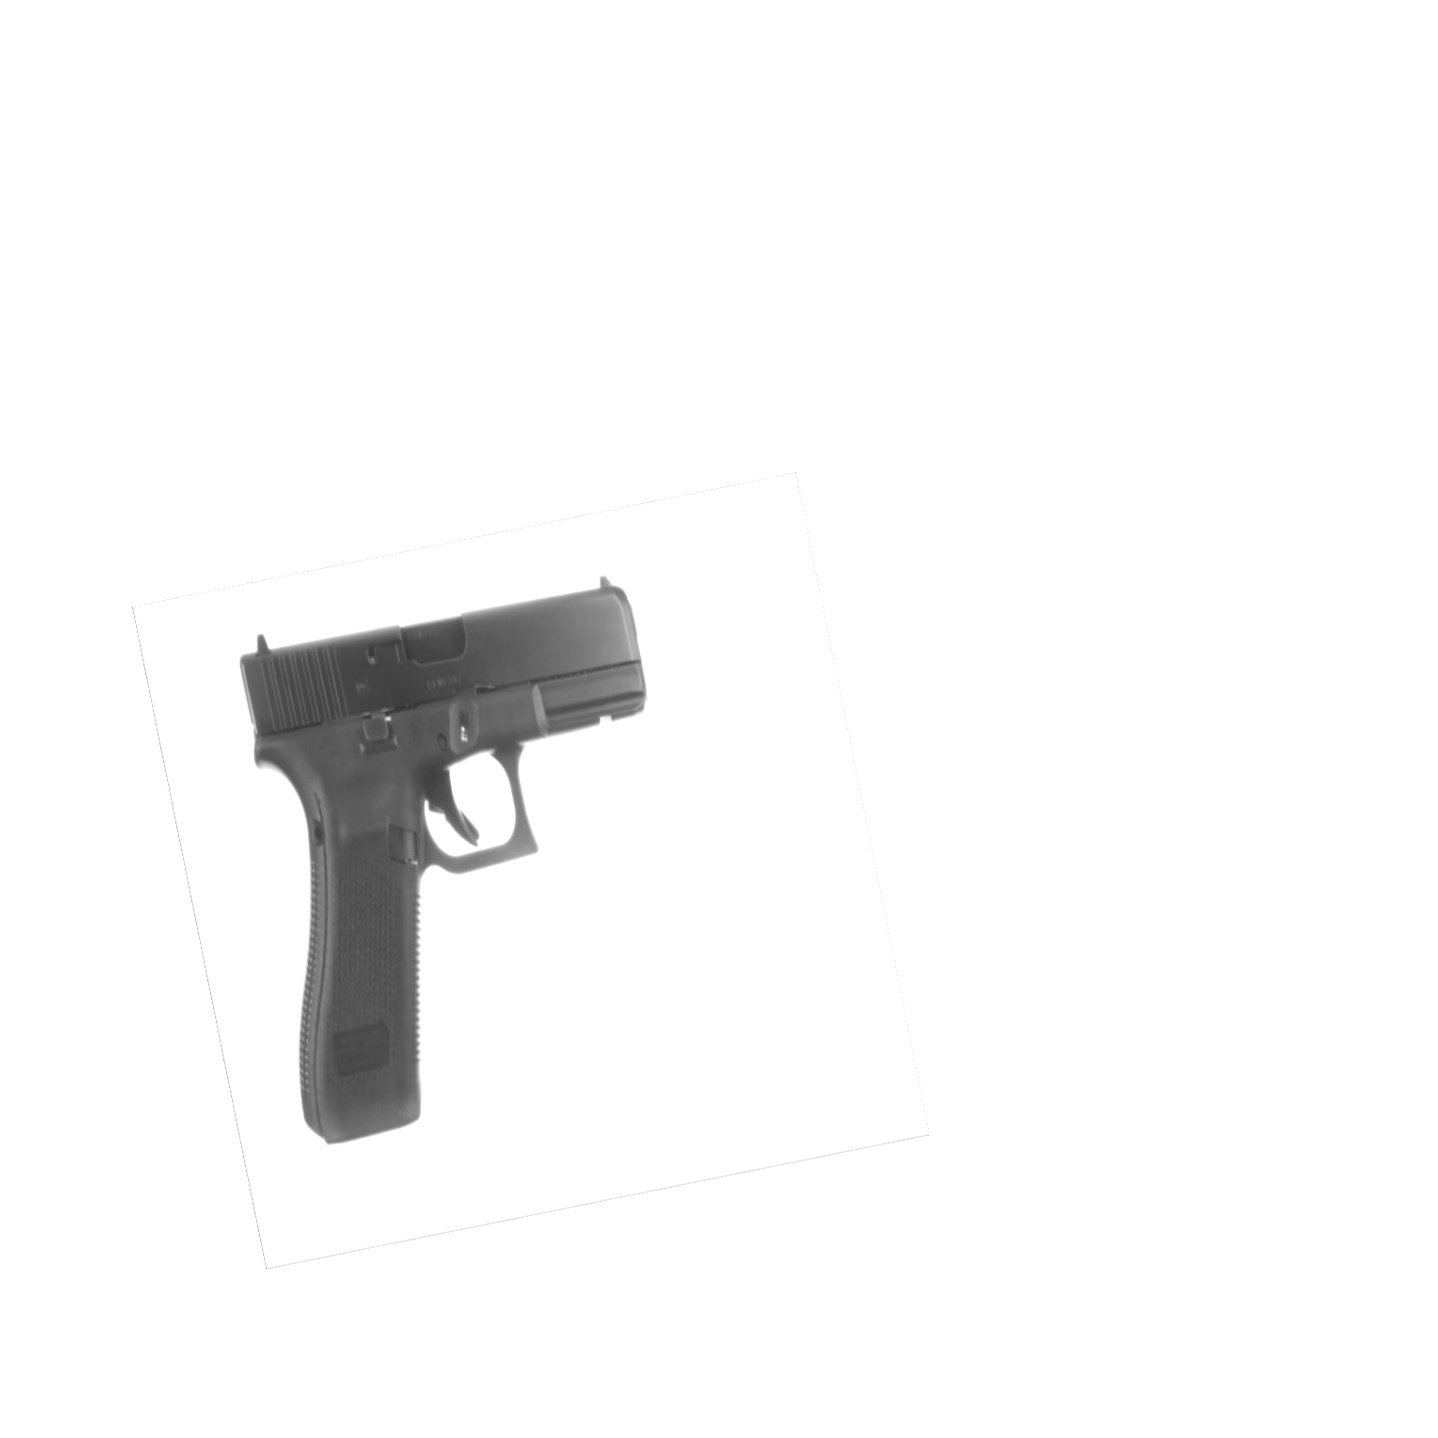gun: (228, 566, 645, 1147)
